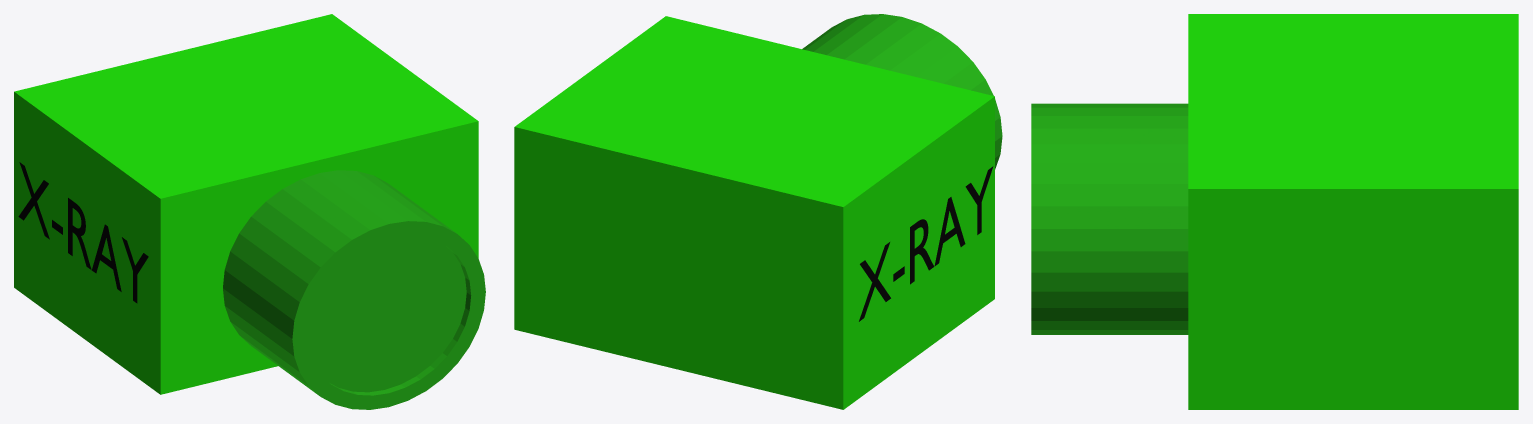
The model's file is XRay.fbx.
The picture shows the model from 3 angles, left to right: view 1: azimuth 30°, elevation 25°; view 2: azimuth 150°, elevation 25°; view 3: azimuth 270°, elevation 25°; orthographic projection. The views are drawn at different scales.
Parts seen in each view (by area): view 1: Cube.005, Cylinder.009, Text.002; view 2: Cube.005, Cylinder.009, Text.002; view 3: Cube.005, Cylinder.009.
Part boxes in pixels (<box>): Cube.005: <box>14,14,478,394</box>; Cylinder.009: <box>223,170,485,409</box>; Text.002: <box>18,162,148,303</box>; Cube.005: <box>514,16,994,409</box>; Cylinder.009: <box>802,14,1002,169</box>; Text.002: <box>859,166,993,321</box>; Cube.005: <box>1188,14,1518,409</box>; Cylinder.009: <box>1031,103,1188,334</box>.
Size of the model in its own units: 99.75 by 57.85 by 115.
